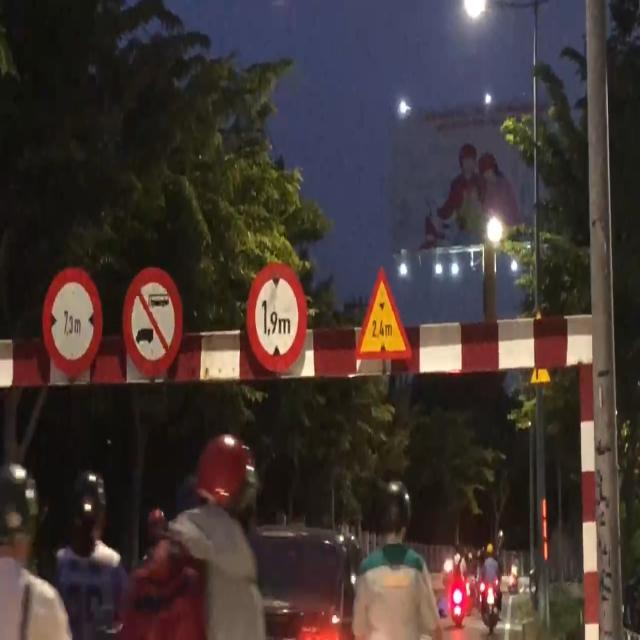Bien bao cam xe oto khach va xe oto tai: (122, 266, 187, 380)
Bien bao chieu cao tinh khong thuc te: (348, 256, 412, 370)
Bien bao han che chieu cao: (240, 255, 312, 379)
